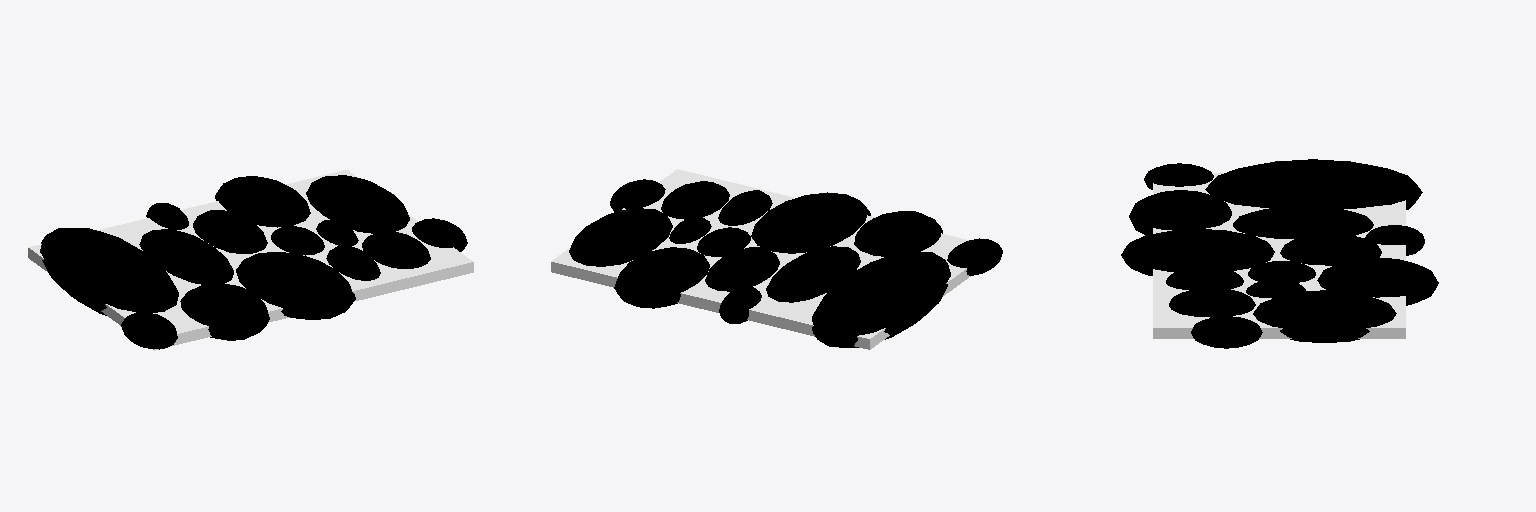
File: stenen_test.obj
3 renders of one model, left to right at view 1: azimuth 30°, elevation 25°; view 2: azimuth 150°, elevation 25°; view 3: azimuth 270°, elevation 25°, orthographic.
Parts seen in each view (by area): view 1: group1, pCube6; view 2: group1, pCube6; view 3: group1, pCube6.
Part boxes in pixels (left/top/right/bottom): group1: left=40, top=175, right=467, bottom=349; pCube6: left=28, top=170, right=473, bottom=350; group1: left=569, top=179, right=1002, bottom=347; pCube6: left=551, top=169, right=970, bottom=349; group1: left=1121, top=159, right=1438, bottom=348; pCube6: left=1153, top=173, right=1405, bottom=338.
Size of the model in its own units: 4.31 by 0.5737 by 3.34.